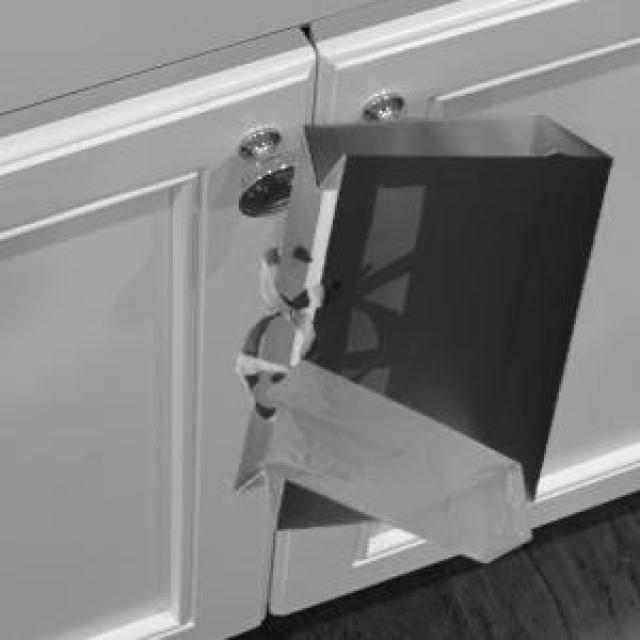paper: (228, 111, 608, 527)
